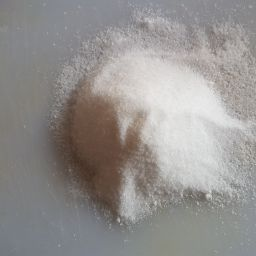Sugar: (53, 5, 256, 214), (44, 55, 181, 228), (122, 82, 256, 205)
